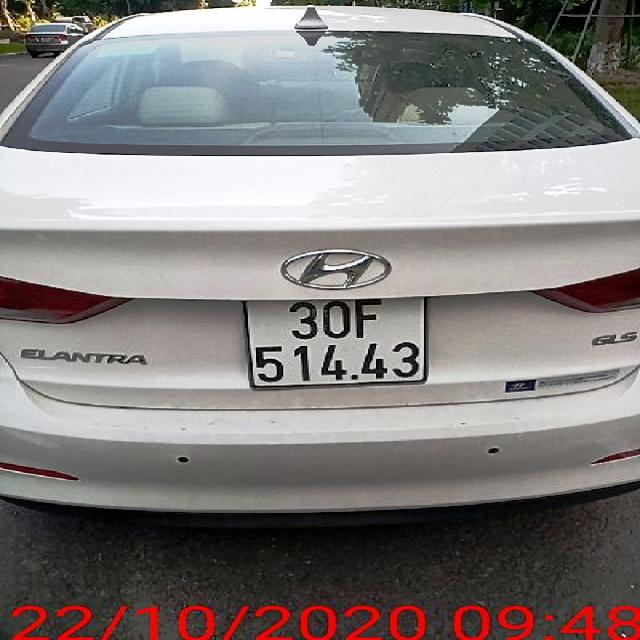license_plate: (246, 298, 433, 390)
